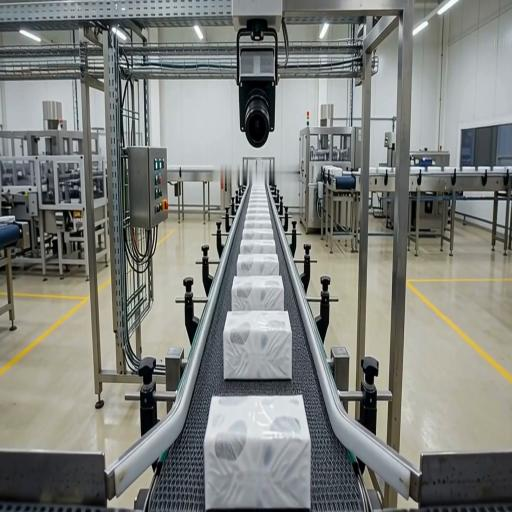good: (204, 393, 311, 511), (223, 311, 293, 381), (232, 274, 285, 312), (236, 253, 279, 276), (240, 239, 277, 254), (242, 228, 274, 239), (244, 219, 272, 228), (245, 213, 271, 220), (247, 207, 269, 212), (248, 202, 269, 207), (249, 197, 268, 202), (250, 194, 267, 197), (250, 190, 266, 193), (251, 187, 266, 190)
